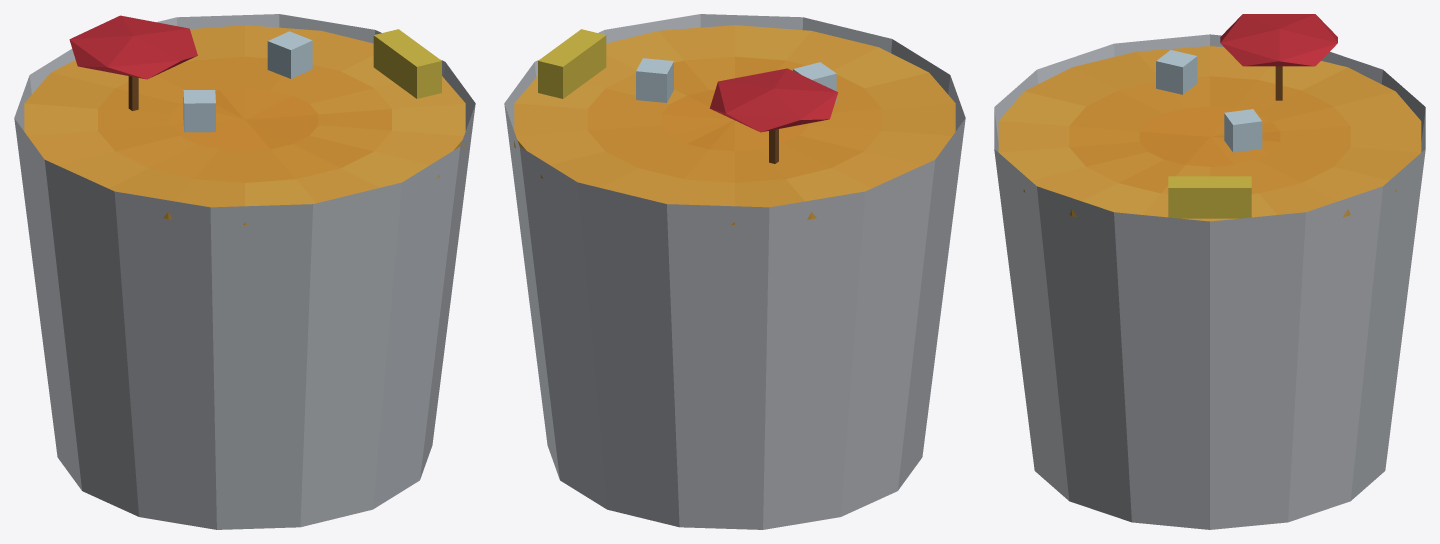
File: Tropical_Punch.glb
3 renders of one model, left to right at view 1: azimuth 30°, elevation 25°; view 2: azimuth 150°, elevation 25°; view 3: azimuth 270°, elevation 25°, orthographic. The views are drawn at different scales.
Parts seen in each view (by area): view 1: _I_TropicalPunch; view 2: _I_TropicalPunch; view 3: _I_TropicalPunch.
Boxes of the visible parts, bbox=[...] form: _I_TropicalPunch: bbox=[14, 14, 475, 529]; _I_TropicalPunch: bbox=[504, 14, 965, 529]; _I_TropicalPunch: bbox=[994, 14, 1425, 529].
Bounding box in the file's own units: 0.0316 × 0.0307 × 0.0308.
